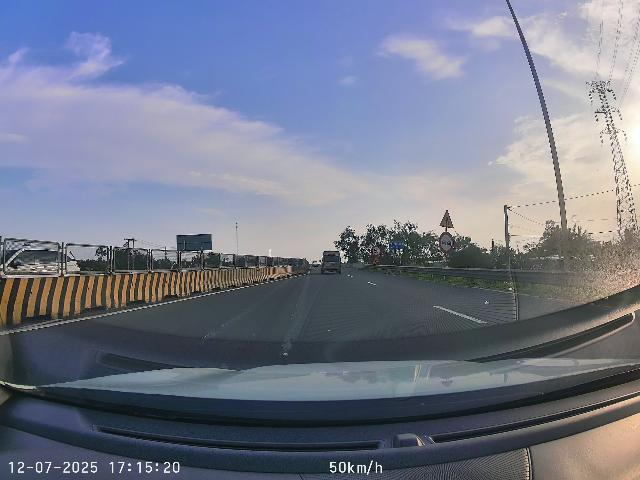125-cam-vuot: (439, 232, 454, 254)
127-toc-do-toi-da-50: (371, 246, 381, 256)
